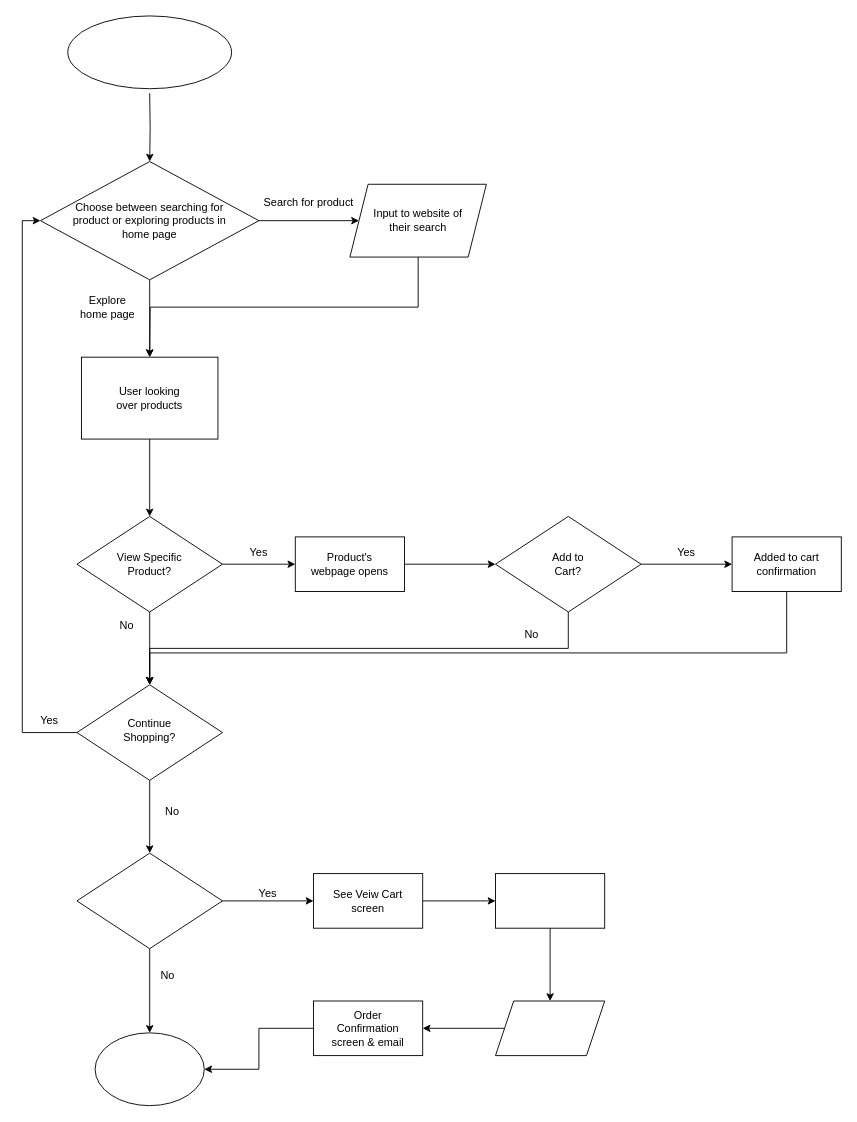
The diagram is 857 pixels wide and 1122 high, and some of its shapes have lost their labels. Here are the shapes that lost their labels. From the top down, the centre of each, then its label:
pixel 149 52: The user begins by entering the website
pixel 149 900: Checkout?
pixel 550 900: See View Payment screen
pixel 550 1028: Input payment information
pixel 149 1069: leave website
